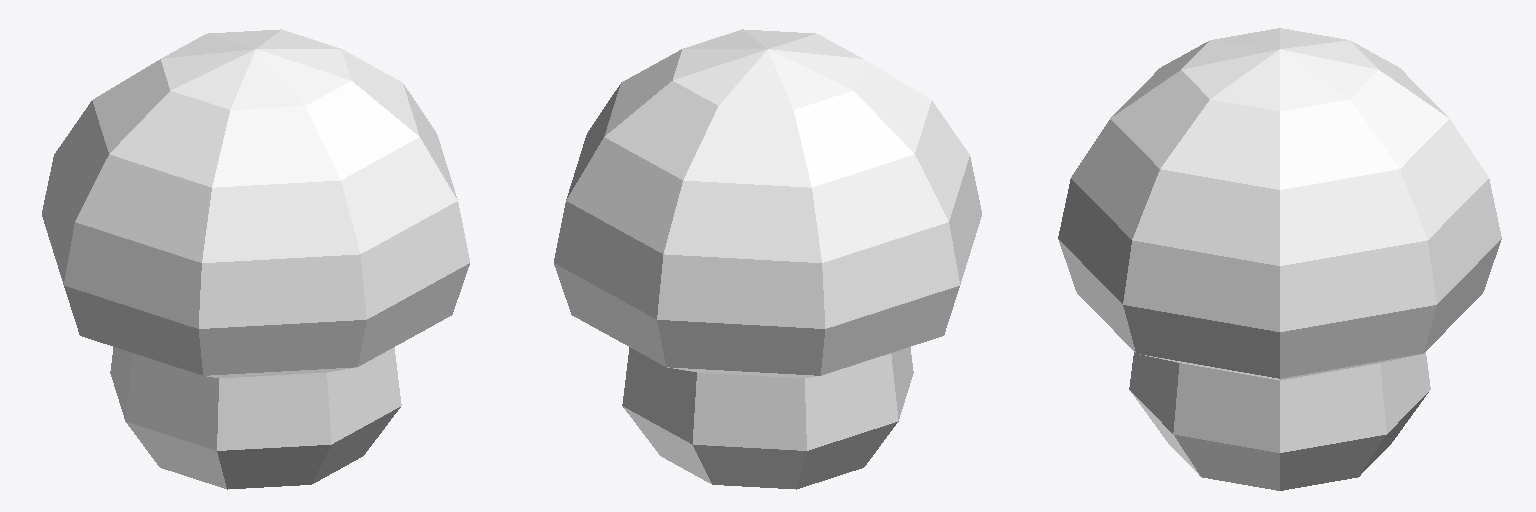
Rendered from supermushroom.obj.
The picture shows the model from 3 angles: view 1: azimuth 30°, elevation 25°; view 2: azimuth 150°, elevation 25°; view 3: azimuth 270°, elevation 25°; orthographic projection.
Parts seen in each view (by area): view 1: mesh0081; view 2: mesh0081; view 3: mesh0081.
Part boxes in pixels (x1,y1,x2,y2): mesh0081: (42,29,469,489); mesh0081: (554,29,981,489); mesh0081: (1058,28,1501,490).
Size of the model in its own units: 10.36 by 10.65 by 10.36.